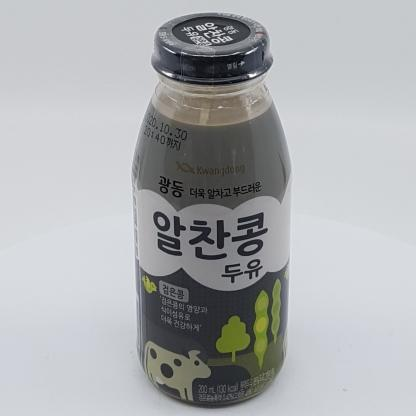--------200ML: (131, 12, 292, 405)
